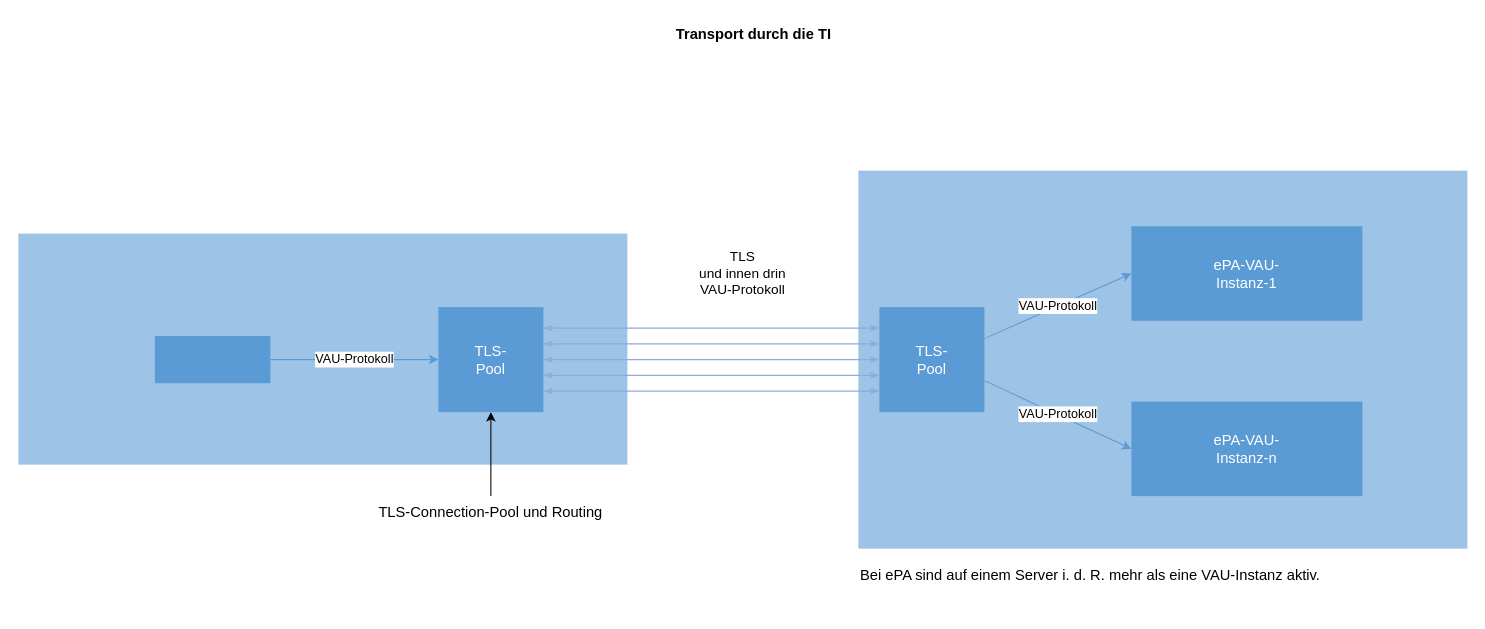
Some shapes in this 1485 by 629 pixel diagram are drawn without their labels. The box of each missing label's shape, as (x1, y1, x2, y2) in pixels:
VAU: (154, 335, 270, 383)
Äußere Schicht ePA-Aktensystem: (858, 170, 1467, 548)
Äußere Schicht TI-Flow-Fachdienst: (18, 233, 627, 464)
